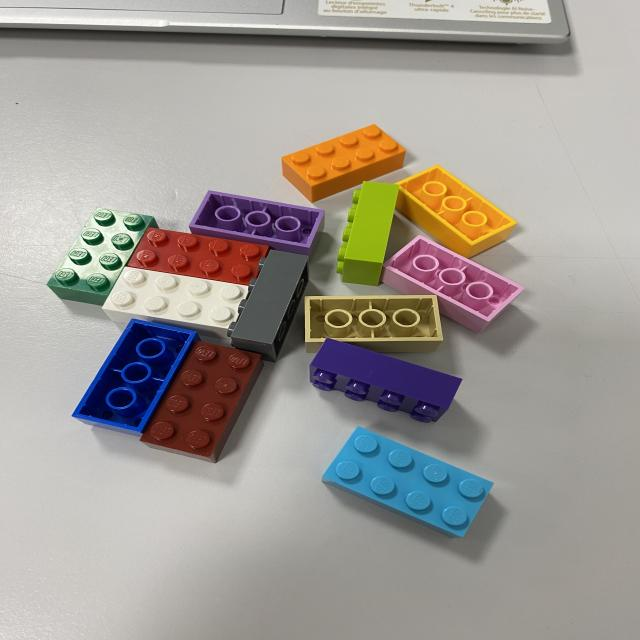C4x2x1: (323, 426, 501, 536), (72, 319, 201, 433), (138, 340, 262, 454), (387, 240, 524, 319), (399, 166, 516, 244), (103, 266, 245, 327), (123, 229, 268, 281), (189, 195, 324, 247), (236, 251, 303, 344), (346, 181, 400, 260), (472, 223, 517, 261), (344, 258, 387, 286)
